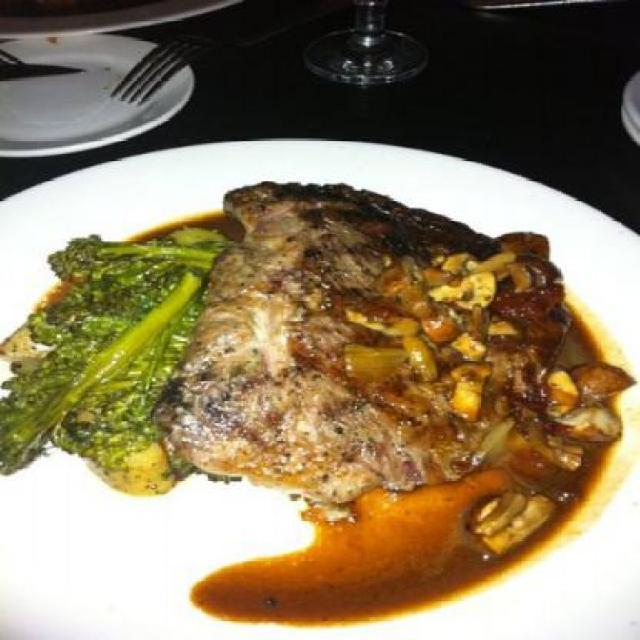Steak: (219, 200, 604, 502)
